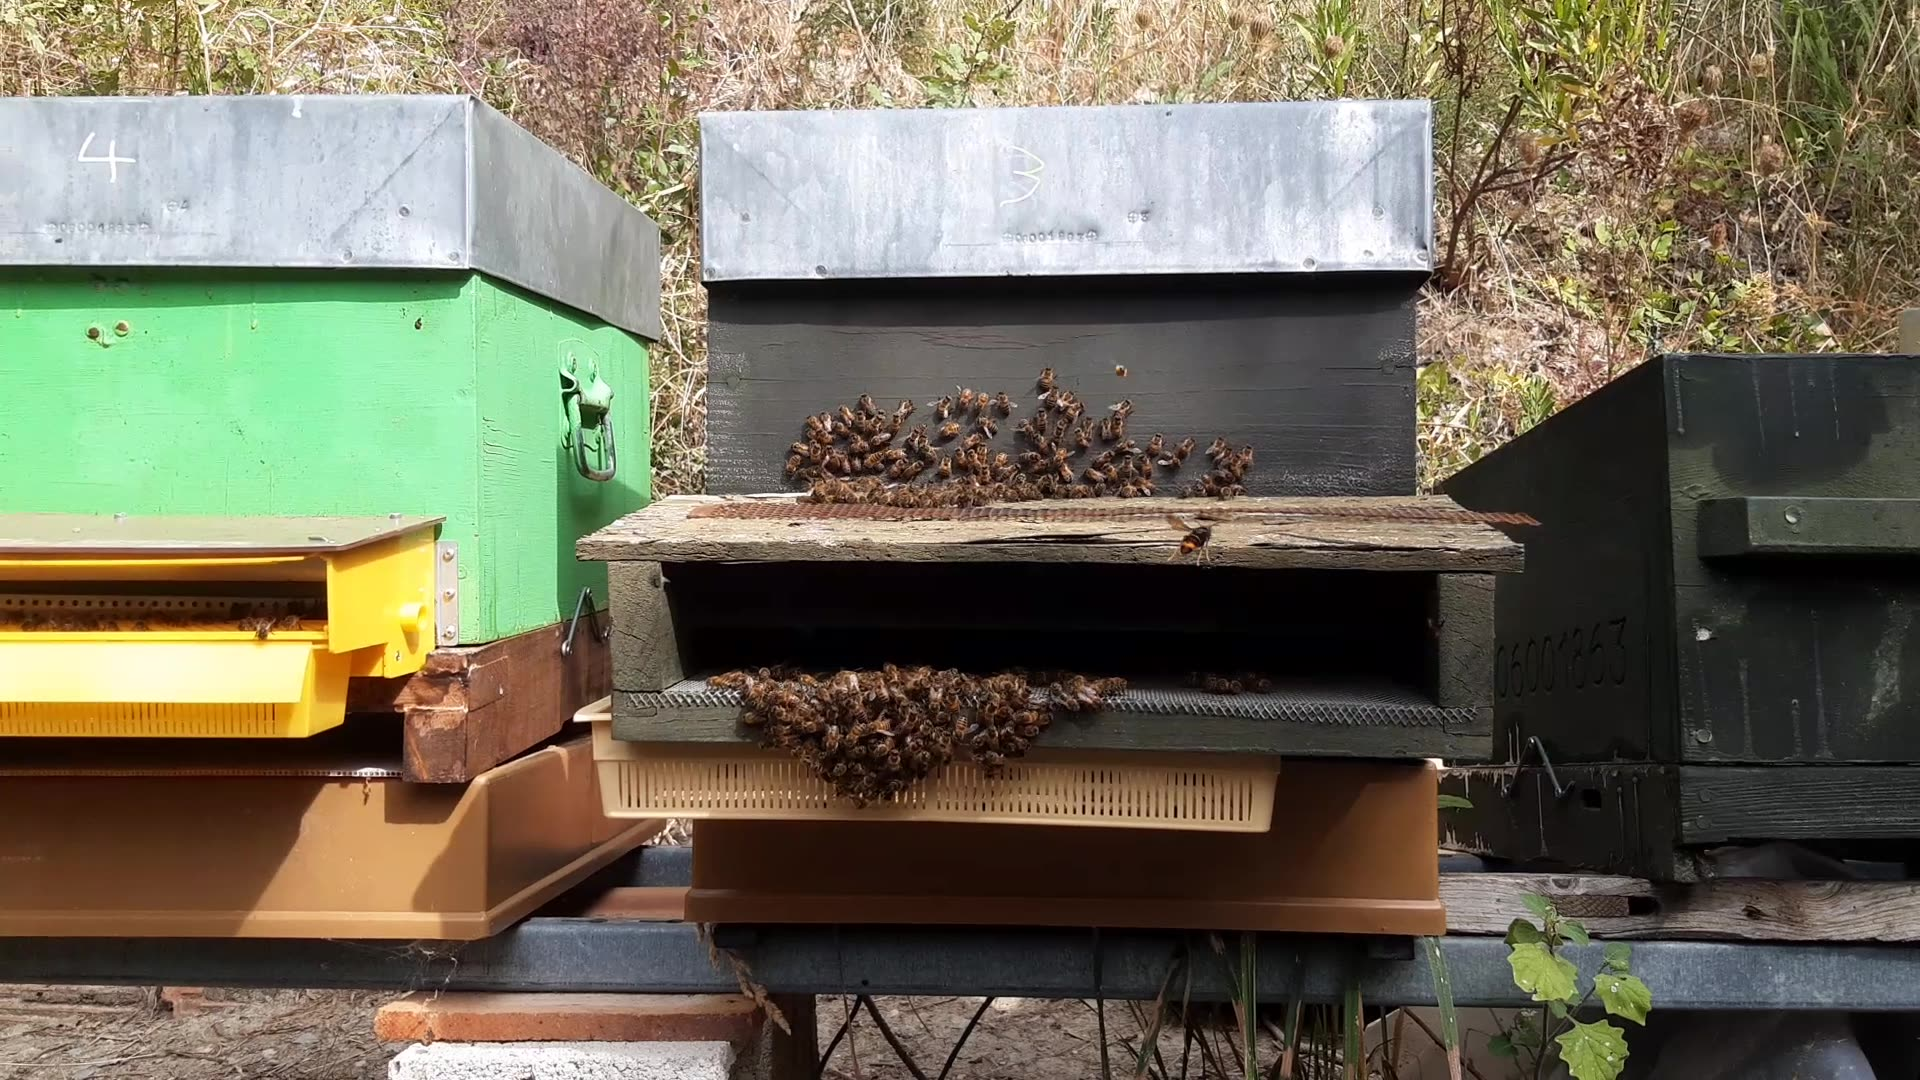bee: (825, 735, 901, 820), (1031, 675, 1126, 727), (1046, 450, 1121, 512), (967, 744, 1025, 819), (938, 454, 1011, 510), (717, 673, 793, 727), (1164, 444, 1244, 493), (835, 460, 906, 506), (1040, 378, 1095, 435), (1175, 510, 1229, 562), (949, 388, 1011, 427), (828, 405, 887, 444)
